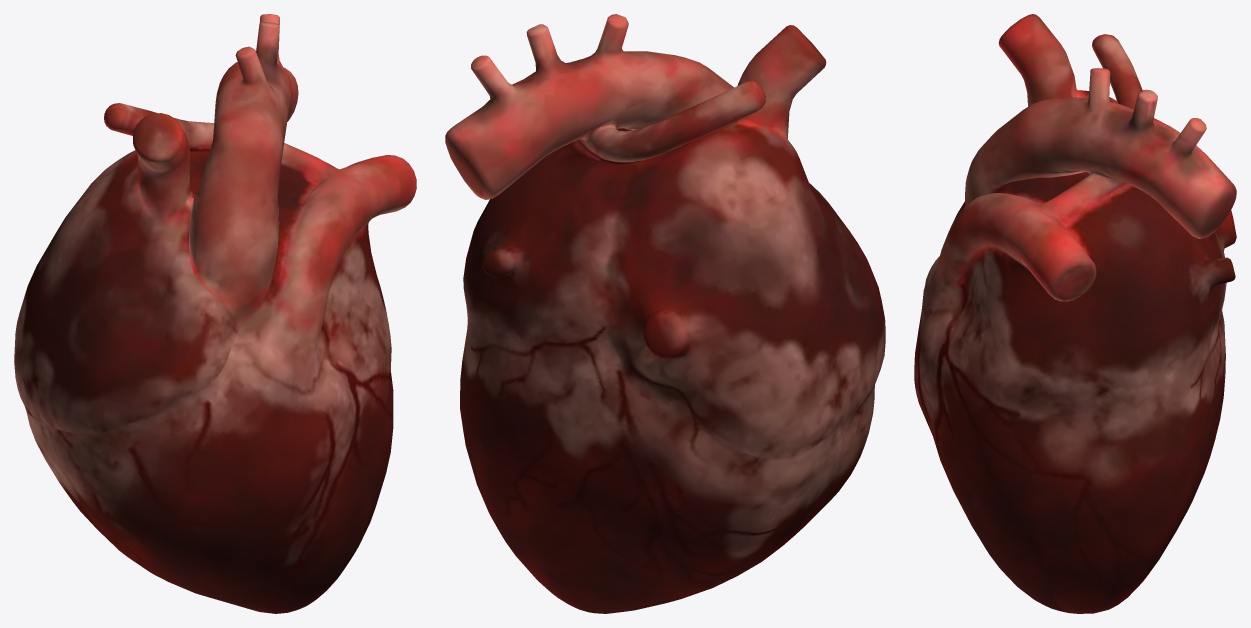
3 views of the same model, side by side, from view 1: azimuth 30°, elevation 25°; view 2: azimuth 150°, elevation 25°; view 3: azimuth 270°, elevation 25° (orthographic). The views are drawn at different scales.
Visible parts, largest first — view 1: hart:ZBrush_defualt_group; view 2: hart:ZBrush_defualt_group; view 3: hart:ZBrush_defualt_group.
Part boxes in pixels (x1,y1,x2,y2): hart:ZBrush_defualt_group: [14, 14, 416, 613]; hart:ZBrush_defualt_group: [445, 14, 885, 613]; hart:ZBrush_defualt_group: [914, 14, 1236, 613].
Size of the model in its own units: 0.1083 by 0.1601 by 0.0879.
Materials: 1 (1 with a texture image).
